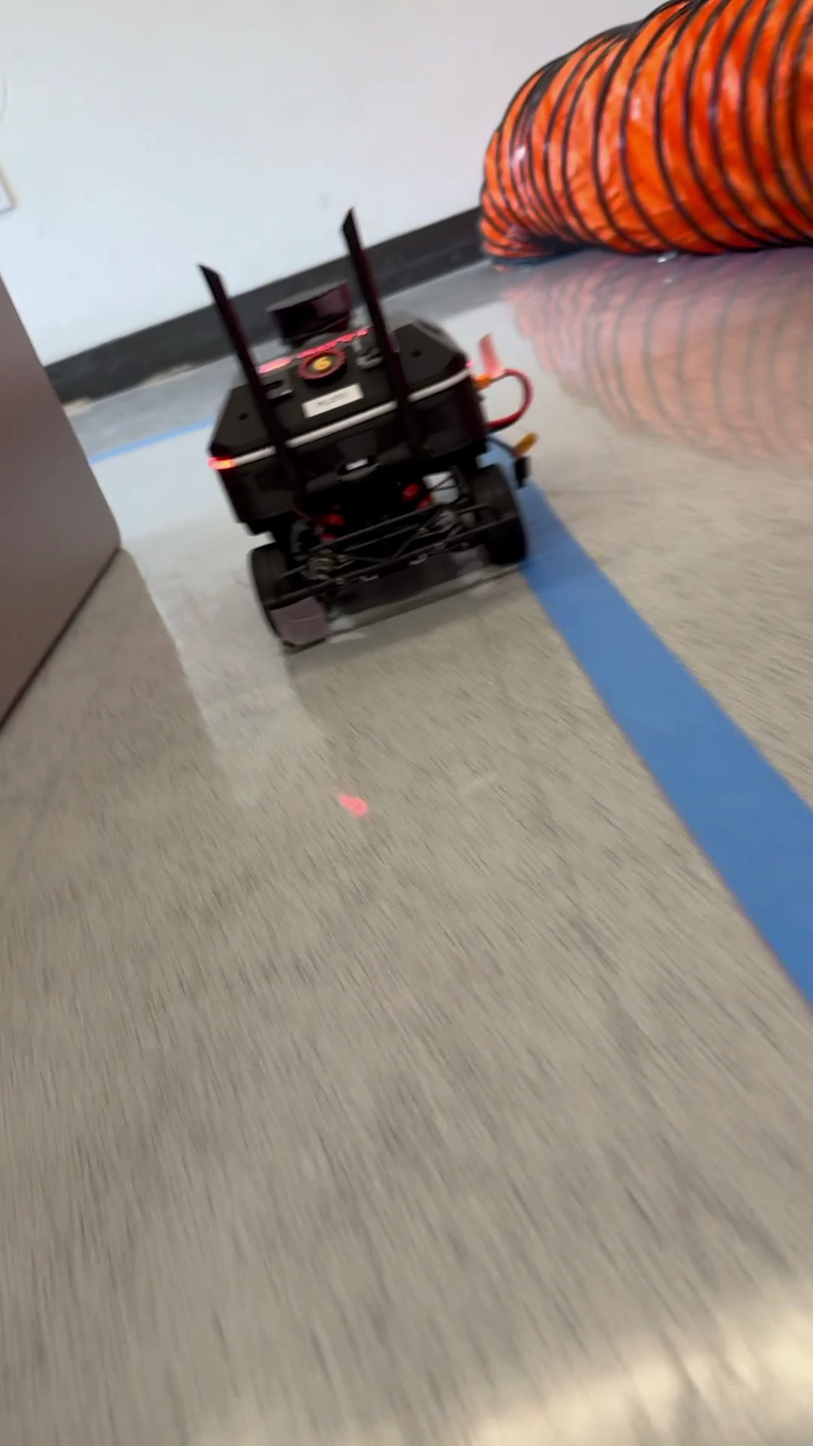racecar: (204, 203, 540, 658)
